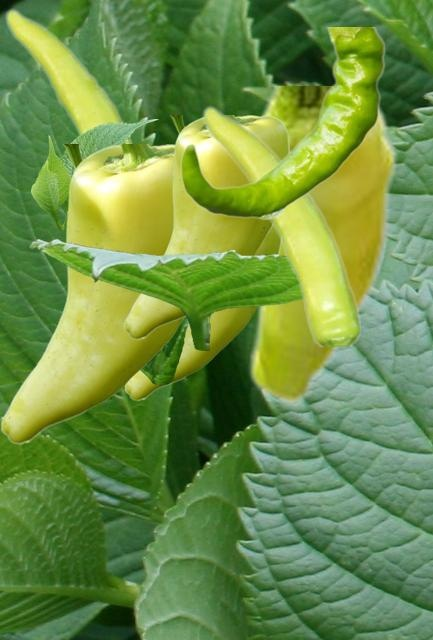green_chili: (0, 144, 186, 444), (247, 86, 397, 404), (180, 27, 385, 219), (202, 104, 359, 345), (123, 115, 289, 339), (124, 228, 281, 400), (5, 7, 133, 143)
